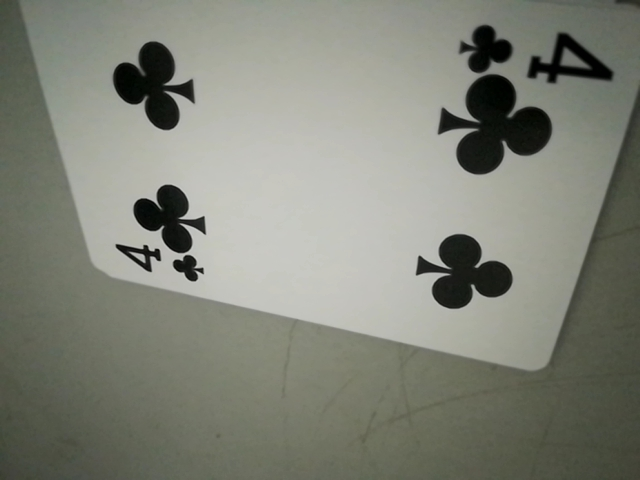mh 4: (457, 13, 615, 85), (106, 238, 209, 286)
